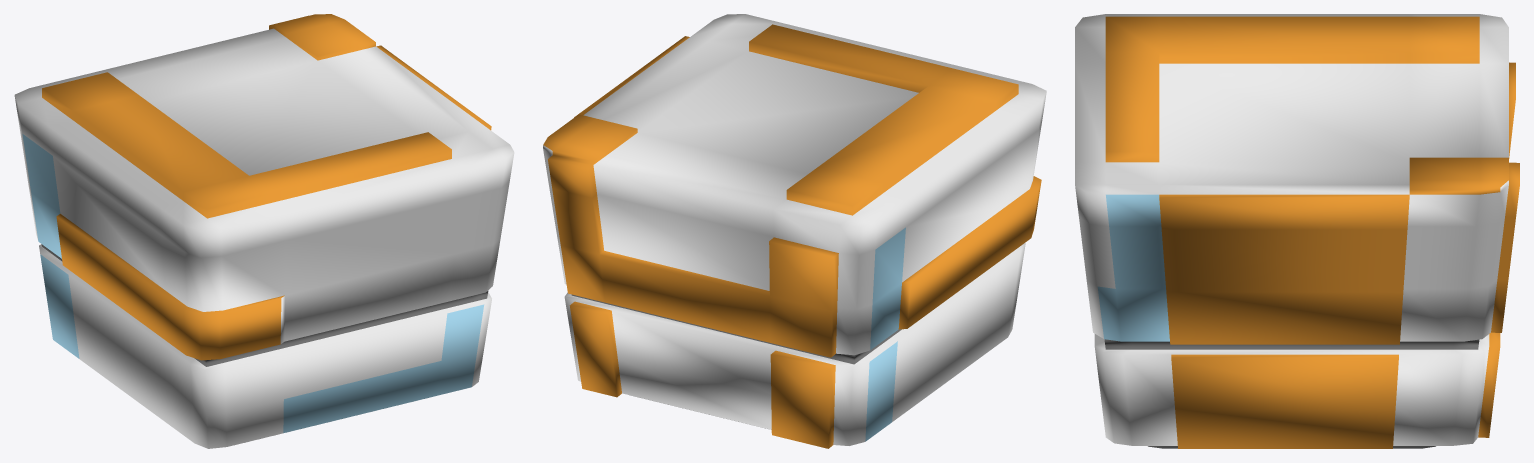
Rendered from head10.glb.
3 views of the same model, side by side, from view 1: azimuth 30°, elevation 25°; view 2: azimuth 150°, elevation 25°; view 3: azimuth 270°, elevation 25° (orthographic). The views are drawn at different scales.
Visible parts, largest first — view 1: body8; view 2: body8; view 3: body8.
Part boxes in pixels (box(x1,y1,x2,y2)): body8: box(14, 14, 514, 448); body8: box(543, 14, 1046, 448); body8: box(1075, 14, 1519, 448).
Size of the model in its own units: 1.57 by 1.17 by 1.61.
